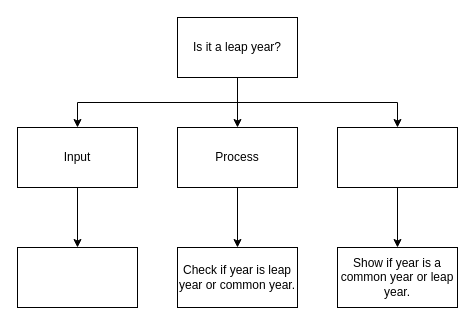
This 475x325 diagram has some shape labels left out. The box of each missing label's shape, as (x1, y1, x2, y2) in pixels:
Get year: (16, 246, 138, 308)
Output: (336, 126, 458, 188)
